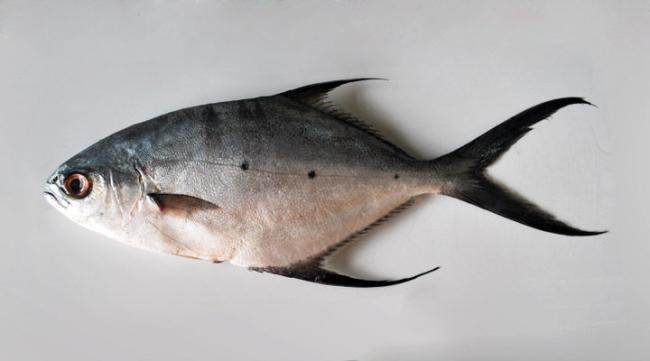fish: (42, 77, 611, 289)
